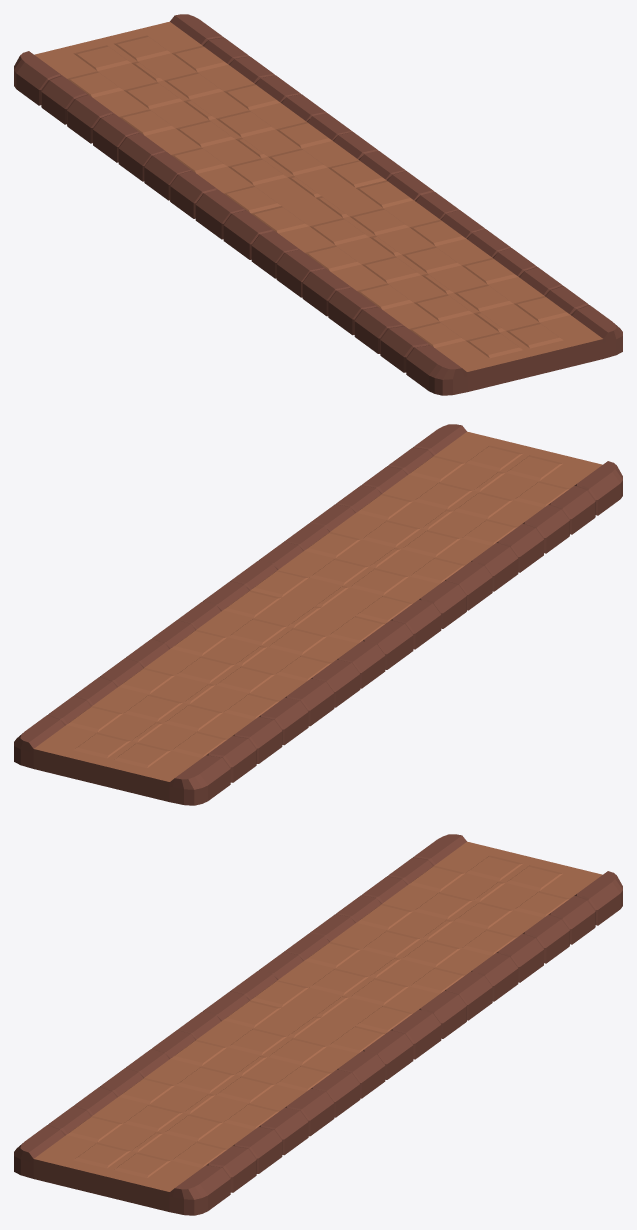
Rendered from kaldrm1.fbx.
3 renders of one model, top to bottom at view 1: azimuth 30°, elevation 25°; view 2: azimuth 150°, elevation 25°; view 3: azimuth 330°, elevation 25°, orthographic.
Visible parts, largest first — view 1: Cube; view 2: Cube; view 3: Cube.
Boxes of the visible parts, x1,y1,x2,y2 form: Cube: [14, 14, 622, 395]; Cube: [14, 424, 622, 805]; Cube: [14, 834, 622, 1215].
Size of the model in its own units: 278 by 34.89 by 1088.
